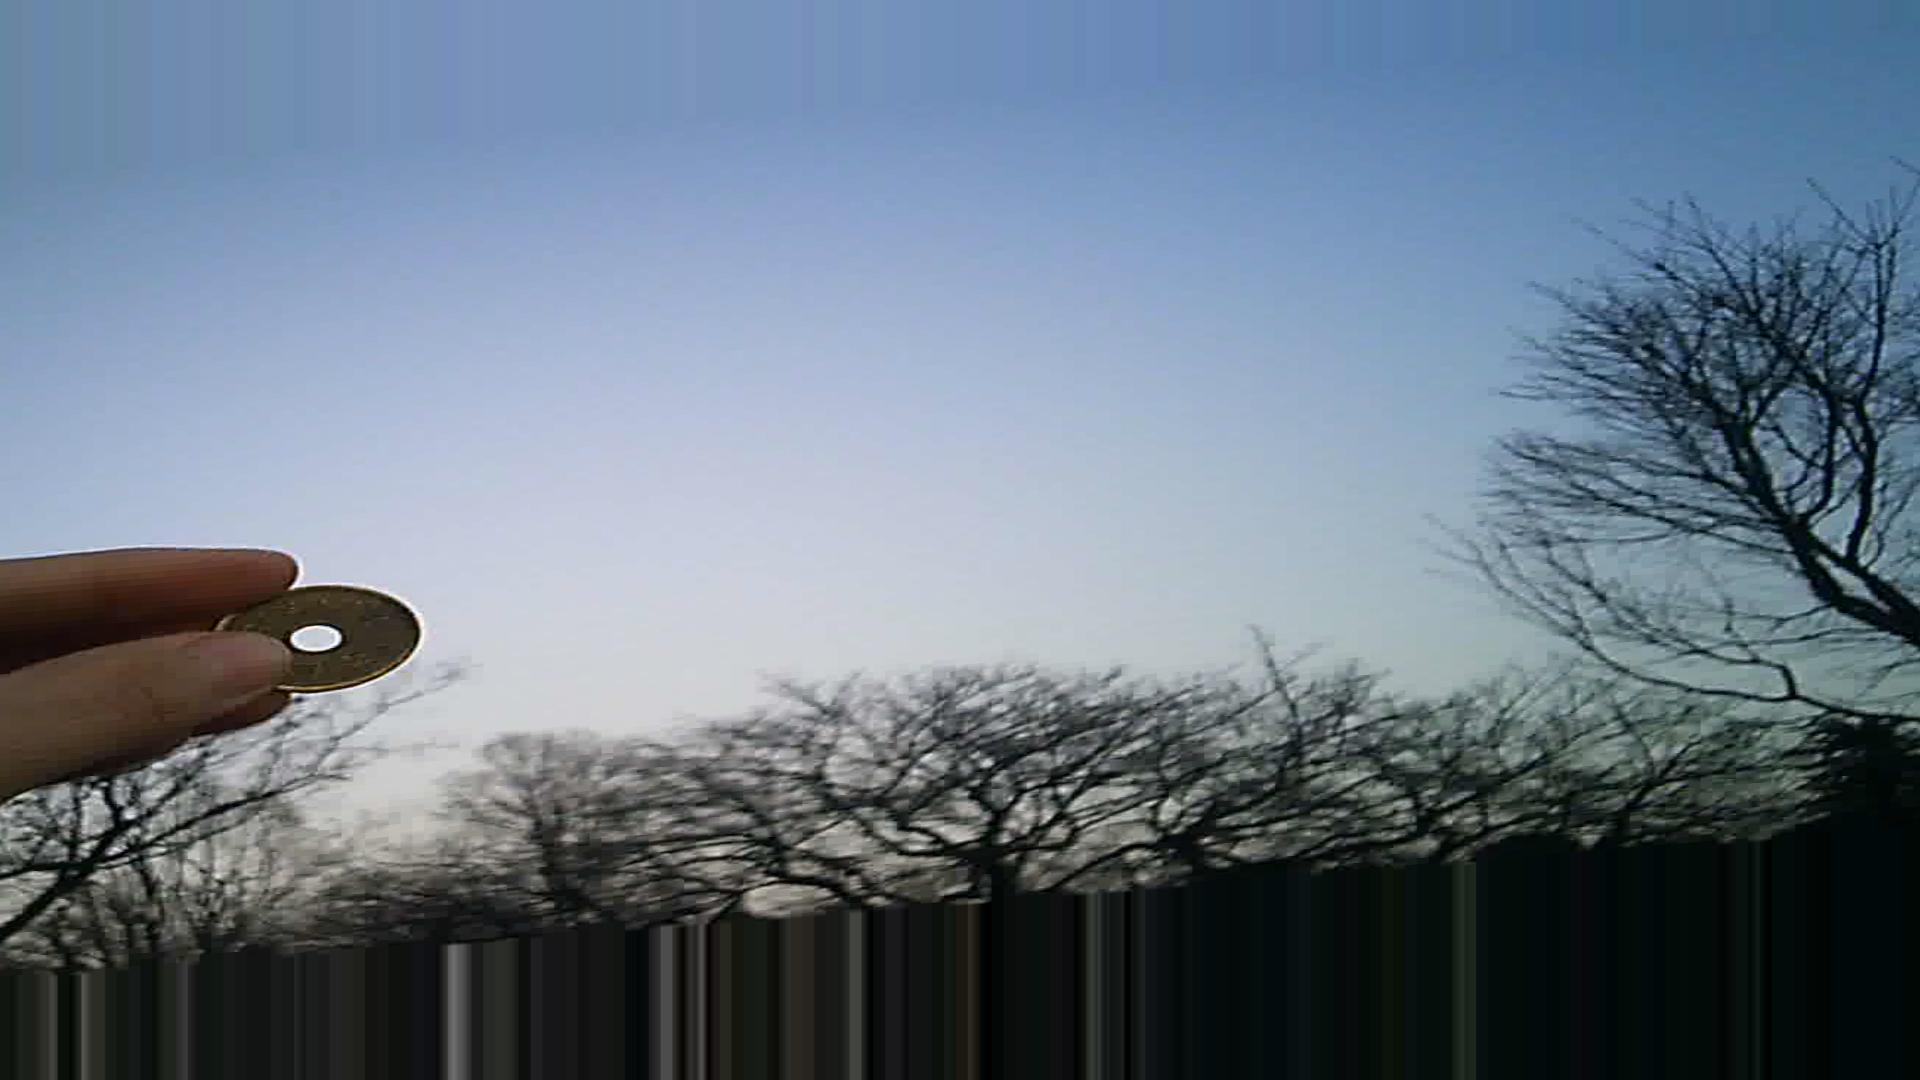5 Yen: (200, 578, 425, 694)
